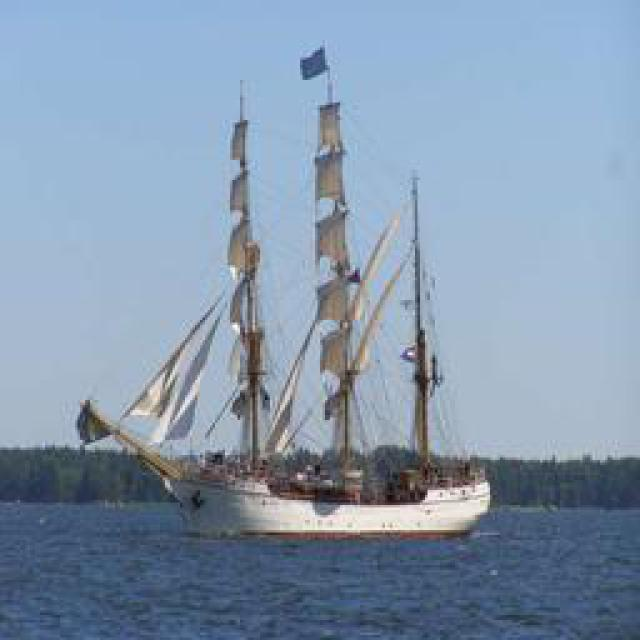Ship: (77, 59, 487, 534)
